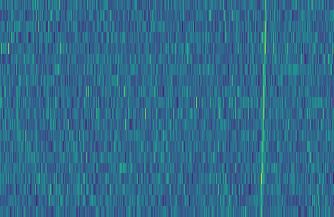signal: (258, 0, 272, 217)
